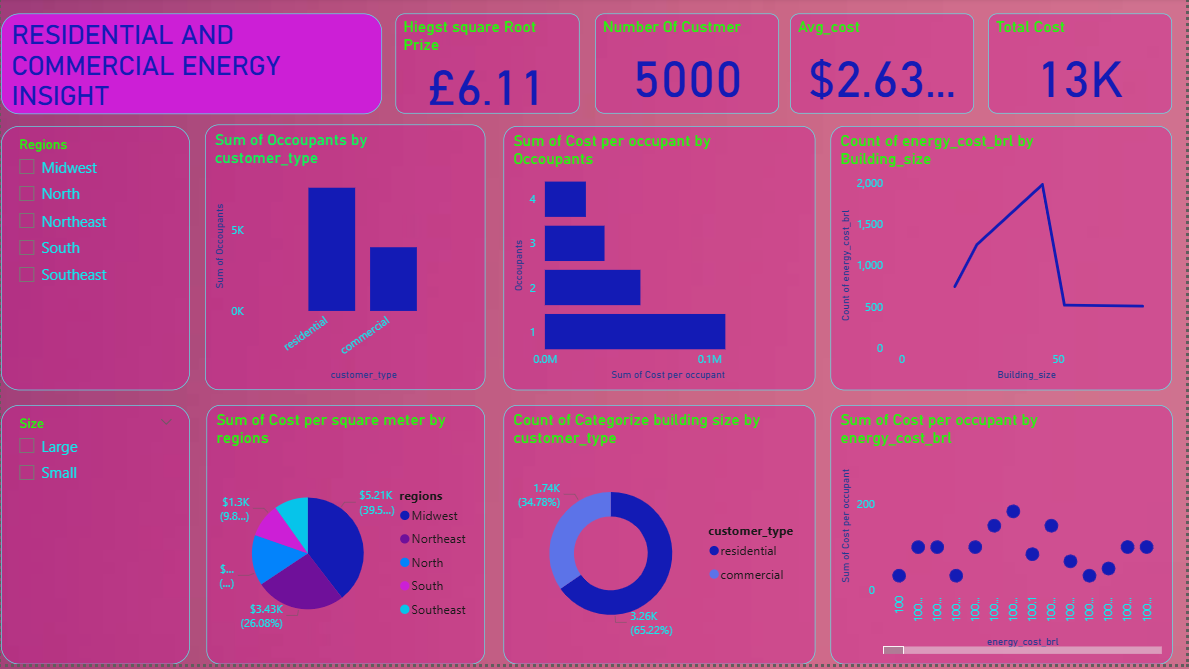

Layout of this report page (visuals, bound fields, positions):
{"tool":"powerbi","page":{"name":"Page 1","canvas":[1280,720],"ordinal":0},"visuals":[{"type":"card","title":"Hiegst square Root Prize","fields":{"Values":["Residential and Commercial Energy Cost Dataset.Higest cost Prize"]},"box":[425.2,17,198.4,107.7],"z":0},{"type":"card","title":"Number Of Custmer","fields":{"Values":["Residential and Commercial Energy Cost Dataset.Number Of occupant"]},"box":[640.6,17,198.4,107.7],"z":1000},{"type":"card","title":"Avg_cost","fields":{"Values":["Residential and Commercial Energy Cost Dataset.Avg Cost"]},"box":[852.3,17,198.4,107.7],"z":2000},{"type":"card","title":"Total Cost ","fields":{"Values":["Residential and Commercial Energy Cost Dataset.Total Custmer"]},"box":[1065.8,17,198.4,107.7],"z":3000},{"type":"columnChart","fields":{"Y":["Sum(Residential and Commercial Energy Cost Dataset.Occoupants)"],"Category":["Residential and Commercial Energy Cost Dataset.customer_type"]},"box":[220.2,137.6,302.8,286.6],"z":4000},{"type":"clusteredBarChart","fields":{"Category":["Residential and Commercial Energy Cost Dataset.Occoupants"],"Y":["Sum(Residential and Commercial Energy Cost Dataset.Cost per occupant)"]},"box":[542.4,139.8,336.4,285.4],"z":5000},{"type":"lineChart","fields":{"Category":["Residential and Commercial Energy Cost Dataset.Building_size"],"Y":["CountNonNull(Residential and Commercial Energy Cost Dataset.energy_cost_brl)"]},"box":[895.8,139.8,368.5,285.4],"z":6000},{"type":"pieChart","fields":{"Category":["Residential and Commercial Energy Cost Dataset.regions"],"Y":["Sum(Residential and Commercial Energy Cost Dataset.Cost per square meter)"]},"box":[221.1,440.3,300.5,279.7],"z":7000},{"type":"donutChart","fields":{"Category":["Residential and Commercial Energy Cost Dataset.customer_type"],"Y":["CountNonNull(Residential and Commercial Energy Cost Dataset.Categorize building size)"]},"box":[542.4,440.3,336.4,279.7],"z":8000},{"type":"slicer","fields":{"Values":["Residential and Commercial Energy Cost Dataset.regions"]},"box":[0,139.8,204.1,285.4],"z":9000},{"type":"slicer","fields":{"Values":["Residential and Commercial Energy Cost Dataset.Categorize building size"]},"box":[0,440,204,280],"z":10000},{"type":"scatterChart","fields":{"Y":["Sum(Residential and Commercial Energy Cost Dataset.Cost per occupant)"],"X":["Residential and Commercial Energy Cost Dataset.energy_cost_brl"]},"box":[896,440,369,280],"z":11000},{"type":"textbox","title":"RESIDENTIAL AND COMMERCIAL ENERGY INSIGHT","box":[0,17.8,411.3,108.5],"z":11001}]}

Visuals, with their boxes in screenshot pixels (x1, y1, x2, y2), scaled from the page's 1280x720 canvas onto the 1189x669 screenshot:
"Hiegst square Root Prize" card: {"left": 395, "top": 16, "right": 579, "bottom": 116}
"Number Of Custmer" card: {"left": 595, "top": 16, "right": 779, "bottom": 116}
"Avg_cost" card: {"left": 792, "top": 16, "right": 976, "bottom": 116}
"Total Cost " card: {"left": 990, "top": 16, "right": 1174, "bottom": 116}
columnChart - Sum(Residential and Commercial Energy Cost Dataset.Occoupants) x Residential and Commercial Energy Cost Dataset.customer_type: {"left": 205, "top": 128, "right": 486, "bottom": 394}
clusteredBarChart - Residential and Commercial Energy Cost Dataset.Occoupants x Sum(Residential and Commercial Energy Cost Dataset.Cost per occupant): {"left": 504, "top": 130, "right": 816, "bottom": 395}
lineChart - Residential and Commercial Energy Cost Dataset.Building_size x CountNonNull(Residential and Commercial Energy Cost Dataset.energy_cost_brl): {"left": 832, "top": 130, "right": 1174, "bottom": 395}
pieChart - Residential and Commercial Energy Cost Dataset.regions x Sum(Residential and Commercial Energy Cost Dataset.Cost per square meter): {"left": 205, "top": 409, "right": 485, "bottom": 668}
donutChart - Residential and Commercial Energy Cost Dataset.customer_type x CountNonNull(Residential and Commercial Energy Cost Dataset.Categorize building size): {"left": 504, "top": 409, "right": 816, "bottom": 668}
slicer - Residential and Commercial Energy Cost Dataset.regions: {"left": 0, "top": 130, "right": 190, "bottom": 395}
slicer - Residential and Commercial Energy Cost Dataset.Categorize building size: {"left": 0, "top": 409, "right": 189, "bottom": 668}
scatterChart - Sum(Residential and Commercial Energy Cost Dataset.Cost per occupant) x Residential and Commercial Energy Cost Dataset.energy_cost_brl: {"left": 832, "top": 409, "right": 1175, "bottom": 668}
"RESIDENTIAL AND COMMERCIAL ENERGY INSIGHT" textbox: {"left": 0, "top": 17, "right": 382, "bottom": 117}
